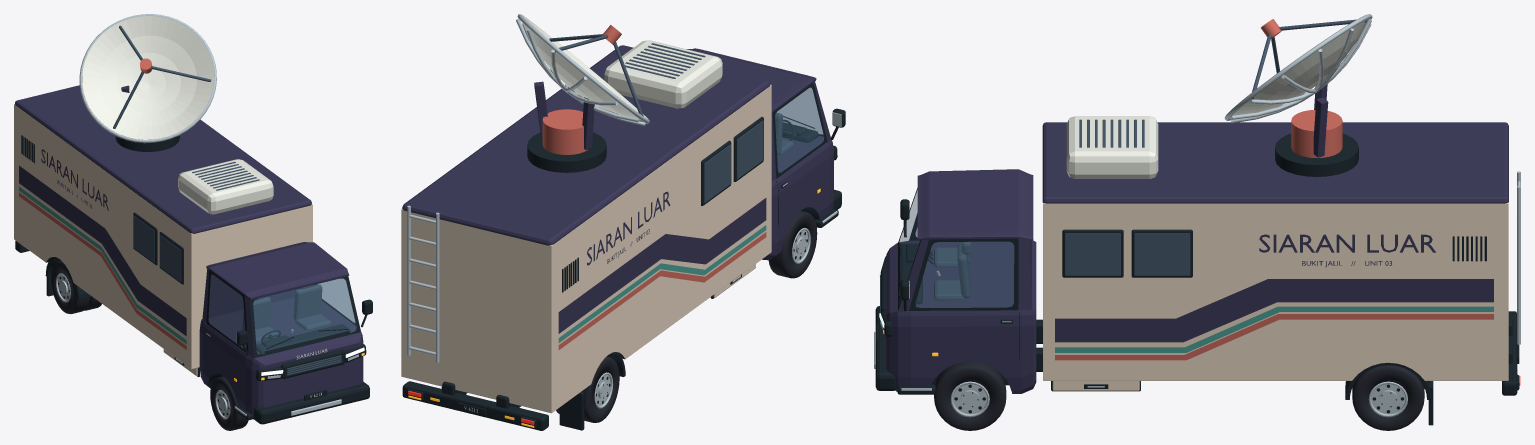
The picture shows the model from 3 angles, left to right: view 1: azimuth 30°, elevation 25°; view 2: azimuth 150°, elevation 25°; view 3: azimuth 270°, elevation 25°; orthographic projection. The views are drawn at different scales.
Parts seen in each view (by area): view 1: Bukit Jalil Outside Broadcast Unit; view 2: Bukit Jalil Outside Broadcast Unit; view 3: Bukit Jalil Outside Broadcast Unit.
Part boxes in pixels (bbox=[...]): Bukit Jalil Outside Broadcast Unit: bbox=[14, 14, 372, 430]; Bukit Jalil Outside Broadcast Unit: bbox=[401, 14, 845, 430]; Bukit Jalil Outside Broadcast Unit: bbox=[874, 14, 1520, 430].
Size of the model in its own units: 2.62 by 5.42 by 8.32.
